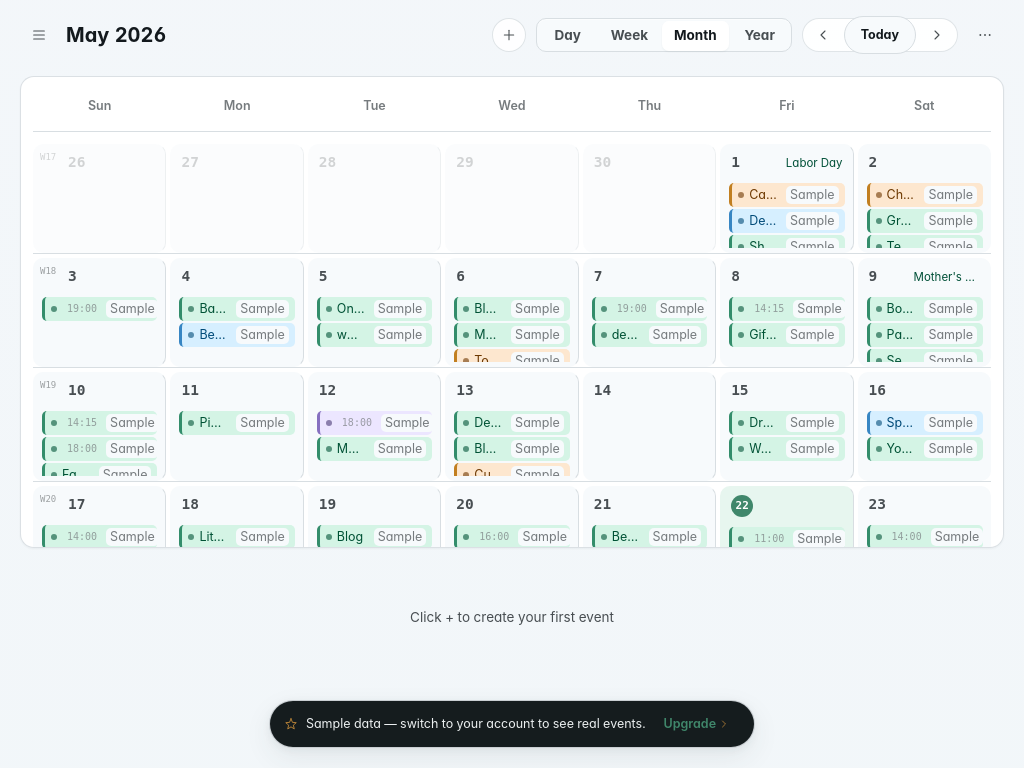
CalendarModule render › AC-VIEW-3: clicking Week swaps Month grid for Week time-grid (P2+ behavior)
Click the tab "Week" at (629, 36), box [599,21,660,51]
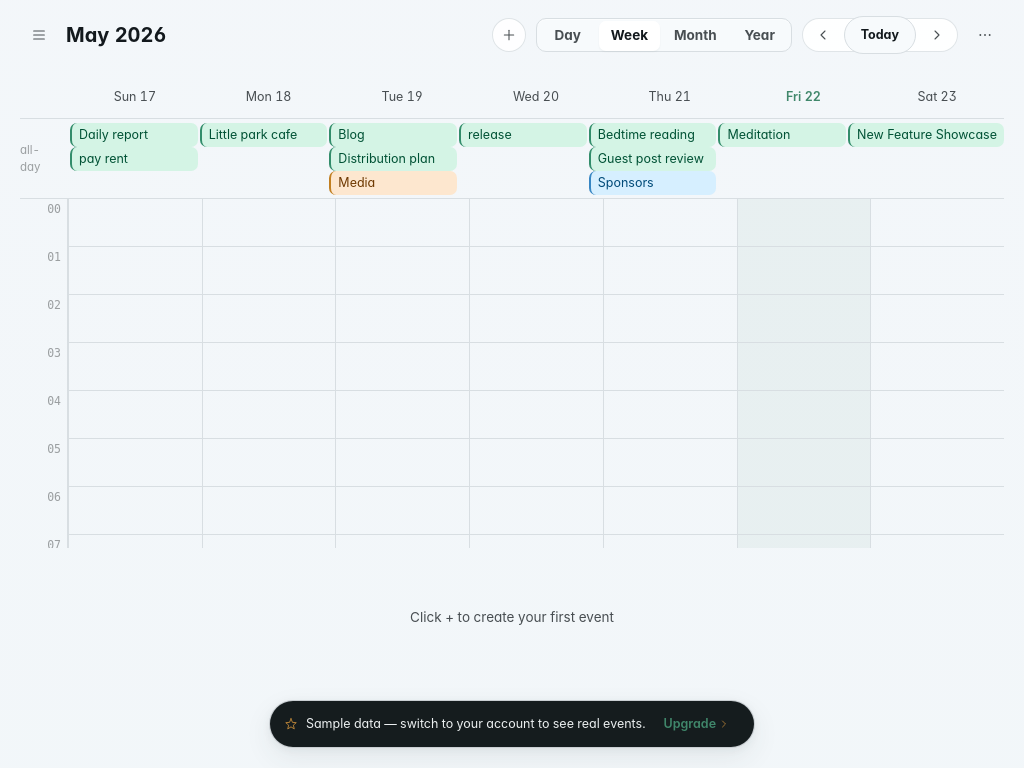
Now no elements with class "cal-day" are shown
Now the element with test id "cal-time-grid" is shown, box [20,76,1004,548]
